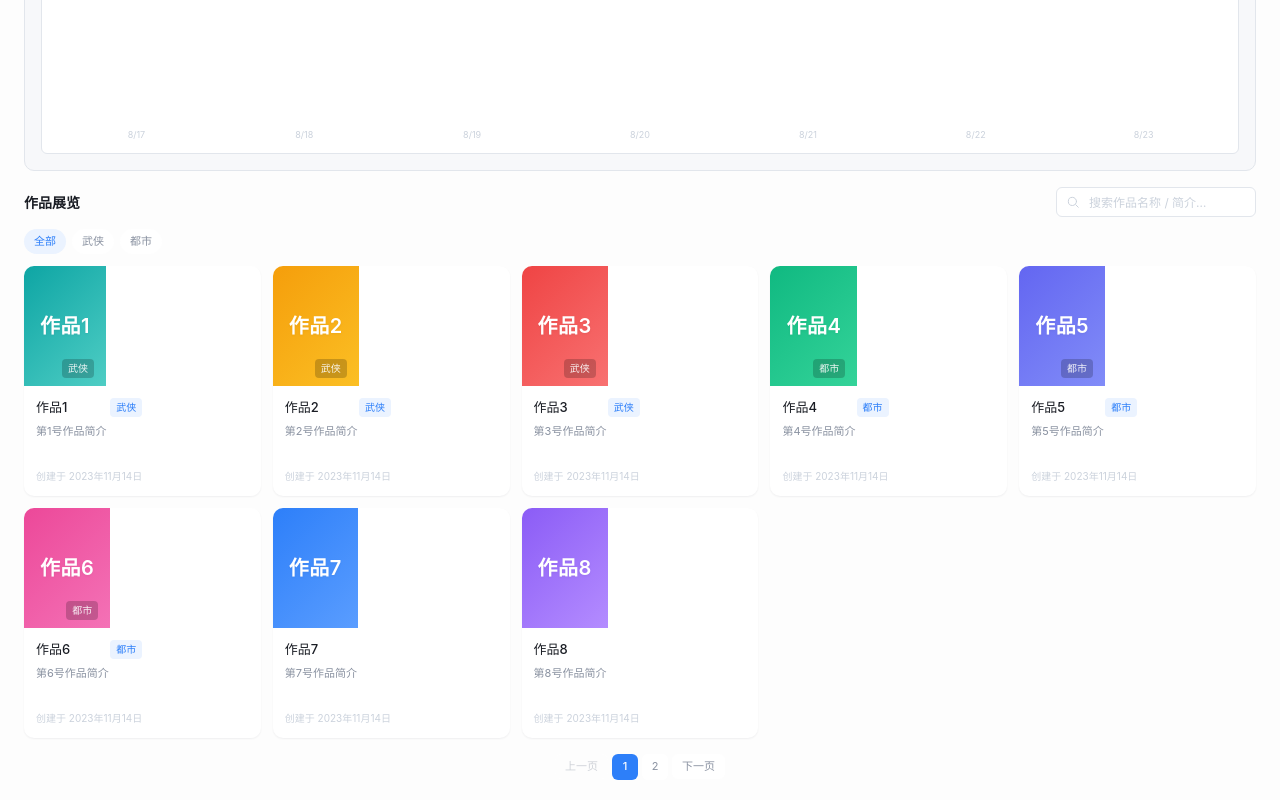
Test case: HomePage · 作品展览模块 › 分页：第一页 8 张卡片，下一页展示剩余 1 张
(page scrolled)
Expected: the text "作品1" is shown 2 times, [40,314,90,338]; [36,398,67,417]
Click the button "下一页" at [698, 767], box [672,754,725,779]
(page scrolled)
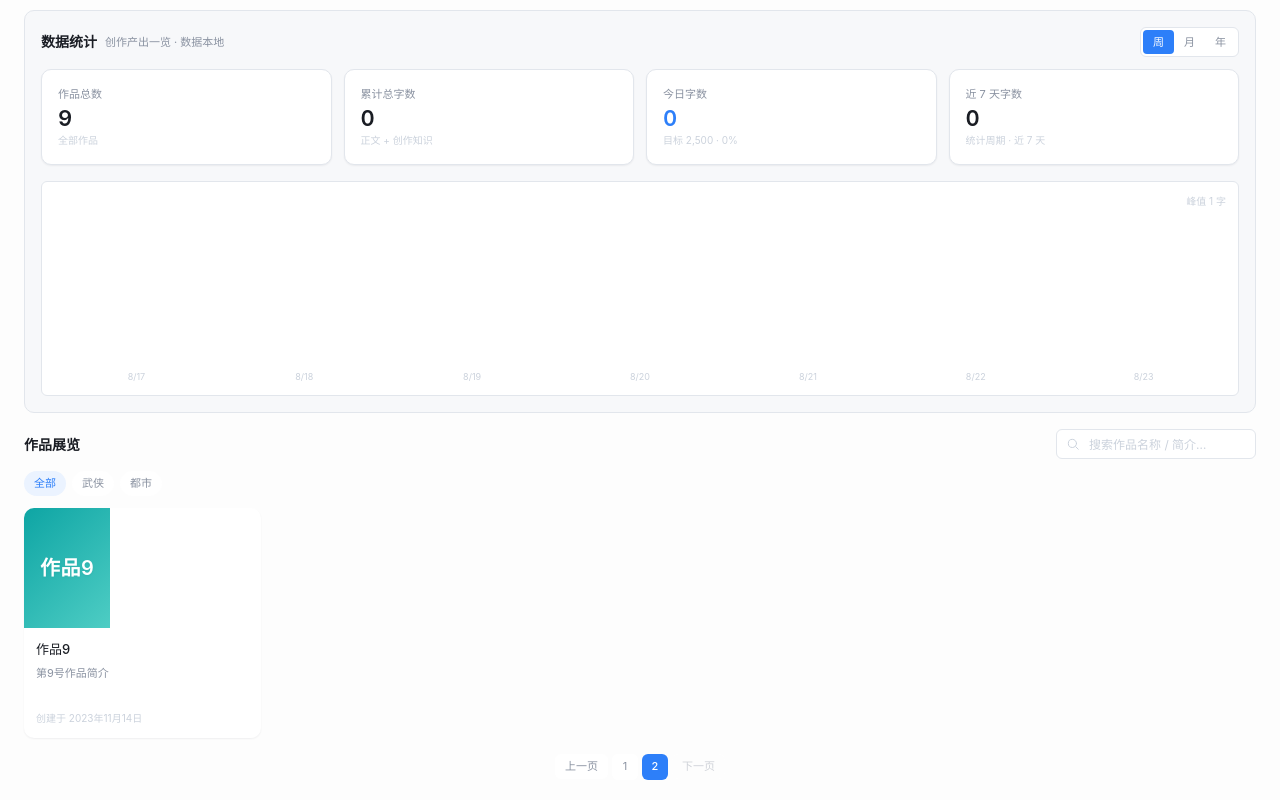
Expected: the text "作品9" is shown 2 times, [40,556,94,580]; [36,640,70,659]
Expected: no buttons "作品1" are shown
Expected: the button "上一页" is enabled, [555,754,608,779]
